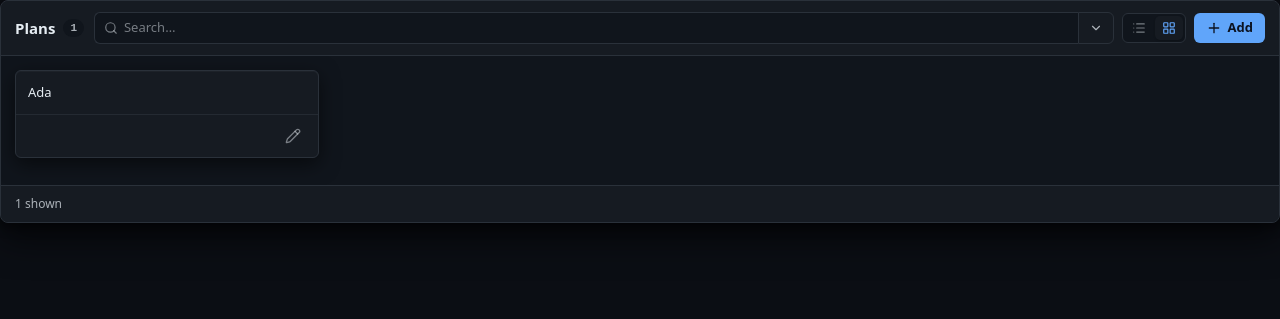
Test: the cards empty state › offers a way back when a filter emptied the set
Check: the text "Ada" is shown, box [28, 82, 52, 100]
In the search field: (596, 28) [124, 16, 1069, 40], type "nothing matches this"
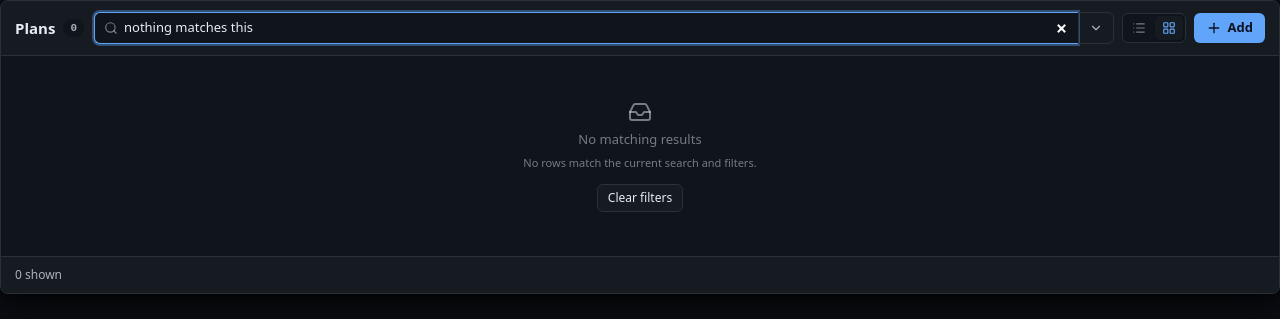
Click the button "Clear filters": click(640, 198) [597, 184, 683, 212]
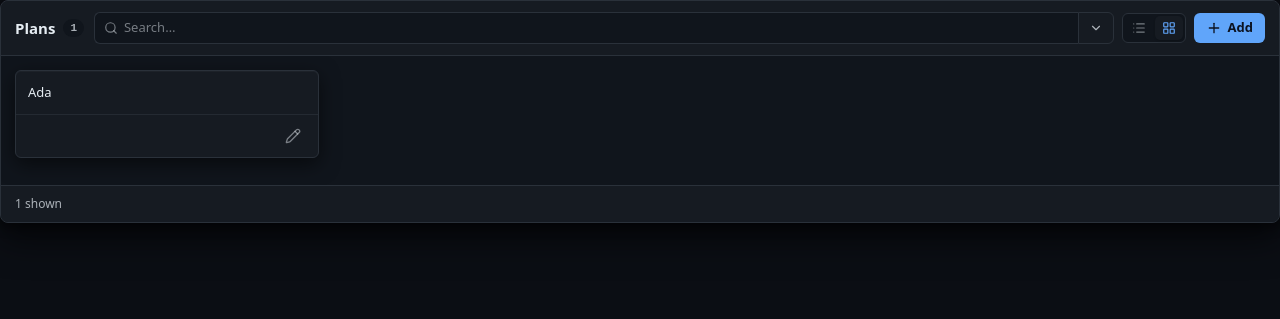
Check: the text "Ada" is shown, box [28, 82, 52, 100]
